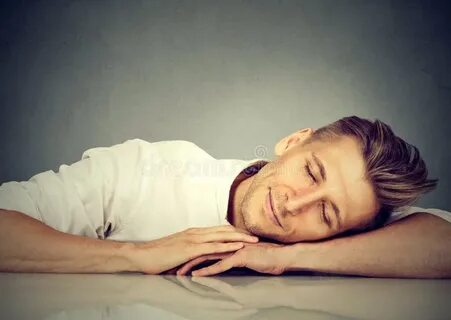sleep: (1, 113, 450, 277)
